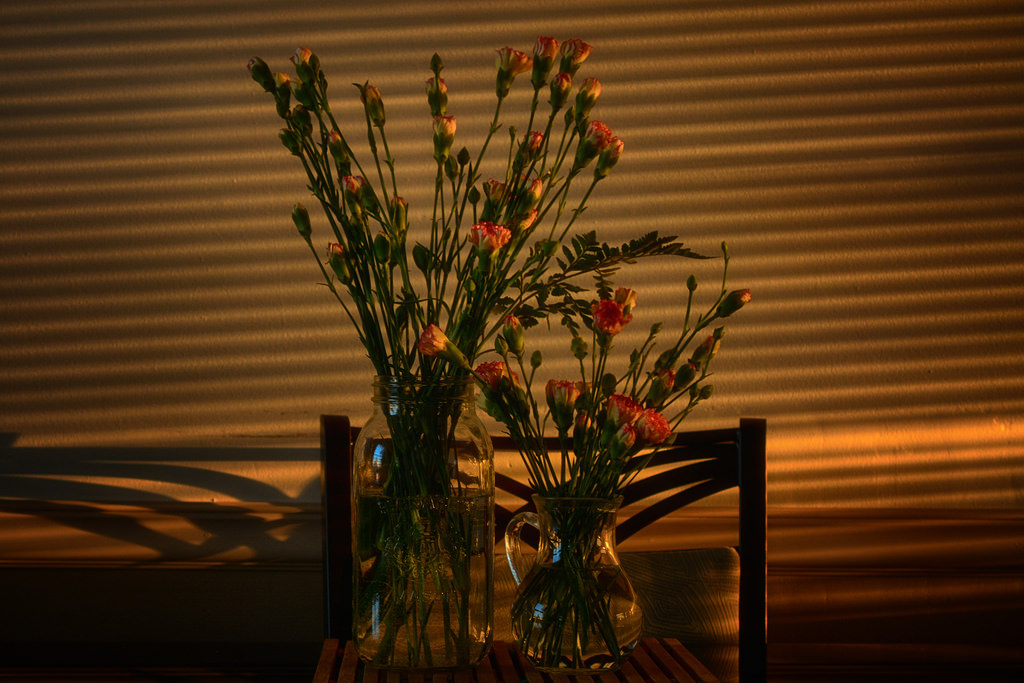glass of water: (499, 500, 655, 671)
